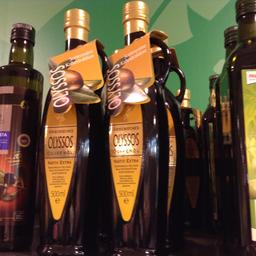oil: (100, 0, 166, 255), (36, 7, 100, 254), (0, 22, 45, 255)
